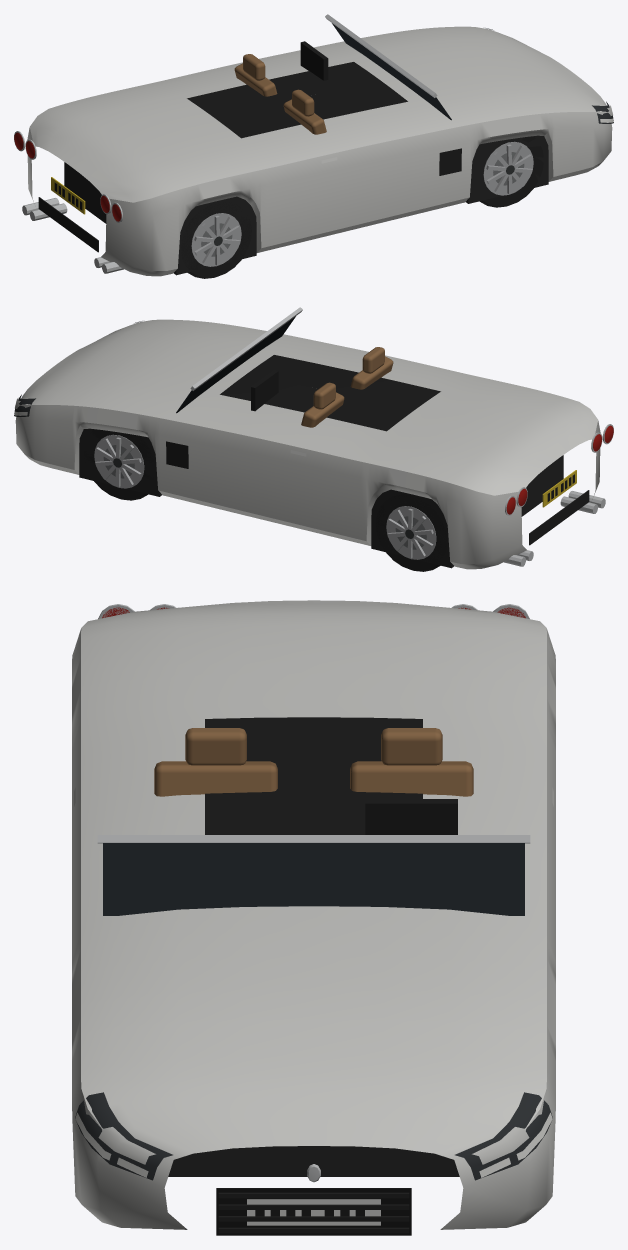
Rendered from SM_Prop_parked_car_112.glb.
The picture shows the model from 3 angles, top to bottom: view 1: azimuth 30°, elevation 25°; view 2: azimuth 150°, elevation 25°; view 3: azimuth 270°, elevation 25°; orthographic projection. The views are drawn at different scales.
Visible parts, largest first — view 1: SM_Prop_parked_car_112; view 2: SM_Prop_parked_car_112; view 3: SM_Prop_parked_car_112.
Boxes of the visible parts, left/top/right/bottom form: SM_Prop_parked_car_112: left=14, top=14, right=613, bottom=278; SM_Prop_parked_car_112: left=14, top=307, right=613, bottom=571; SM_Prop_parked_car_112: left=72, top=600, right=555, bottom=1235.
Size of the model in its own units: 4.56 by 1.14 by 1.89.
